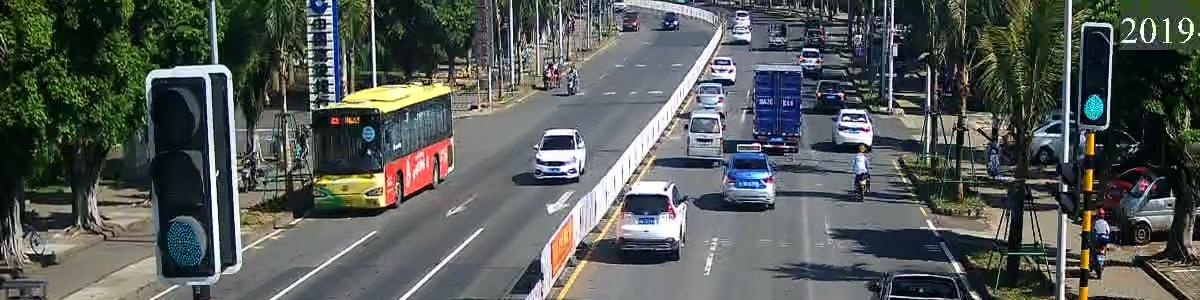green: (132, 213, 235, 278), (1069, 80, 1118, 129)
